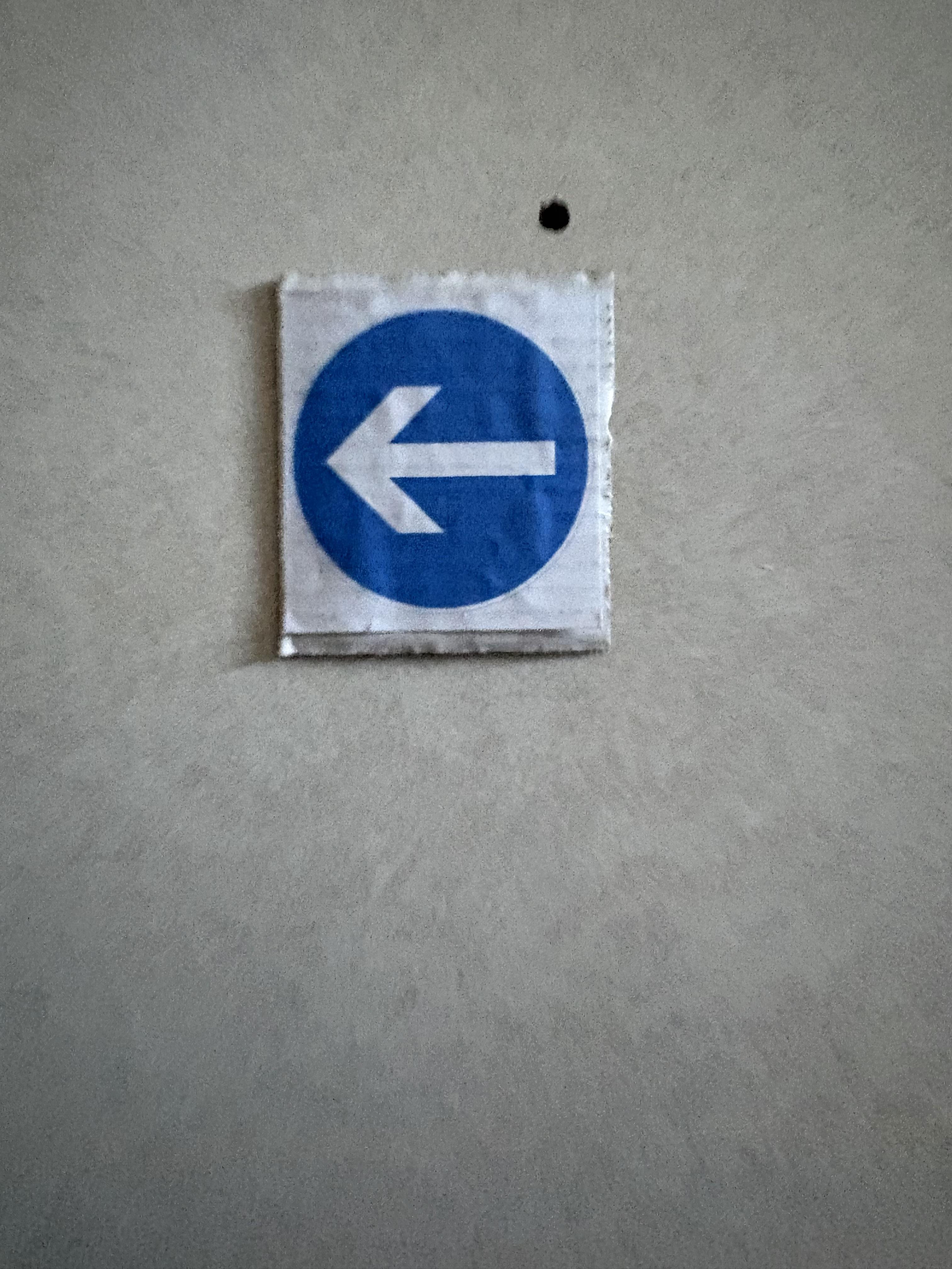Proceed Left: (277, 280, 608, 656)
